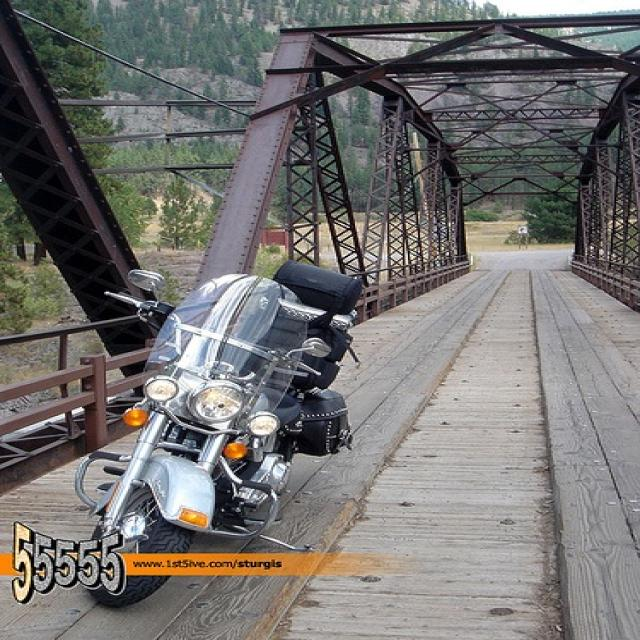motorbike: (76, 261, 356, 600)
